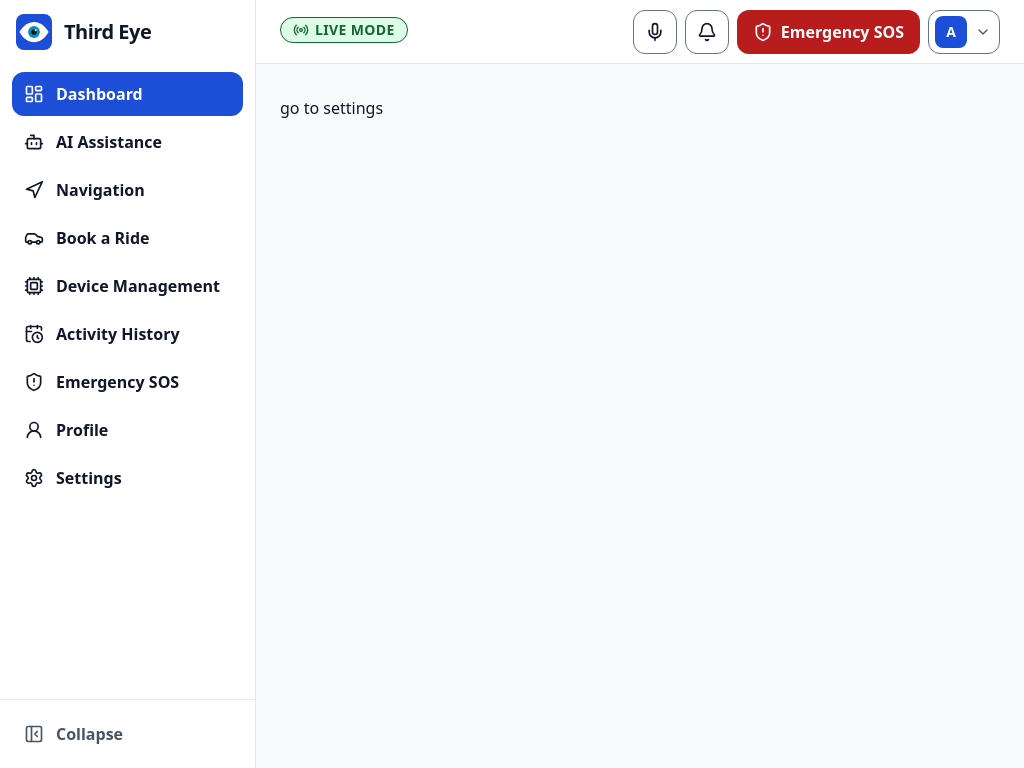
Scenario: Shell focus management › moves focus to main after navigating
Click the link "go to settings" at (332, 108), box [280,97,383,119]
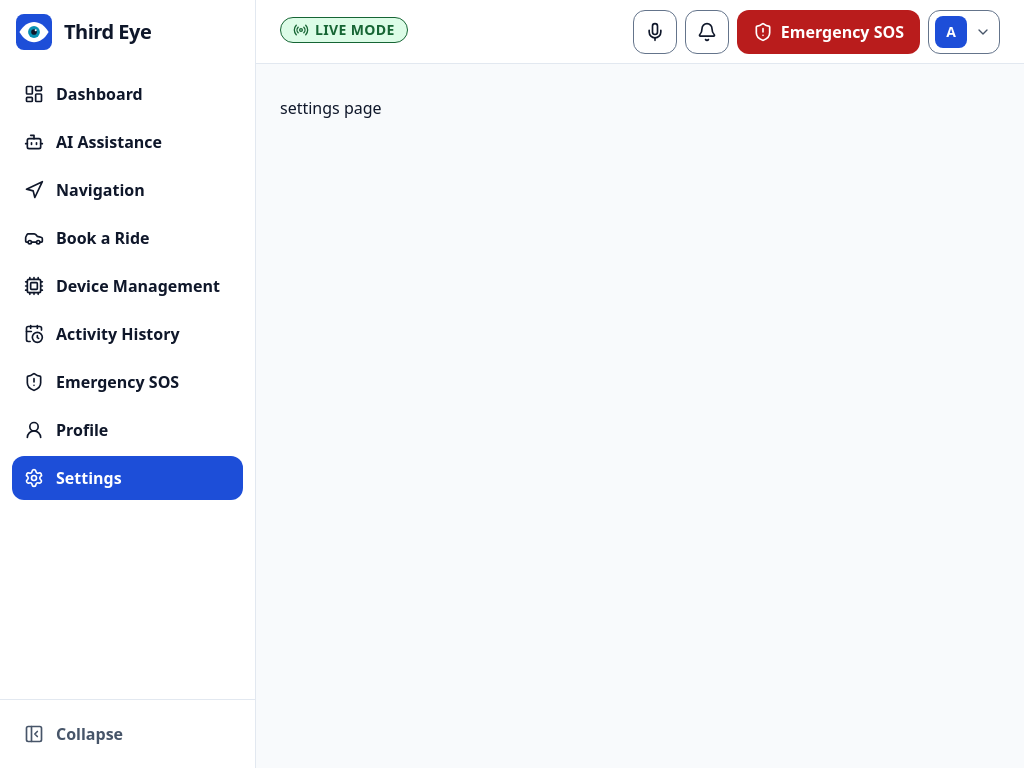
Now the text "settings page" is shown, box [280,97,382,119]
